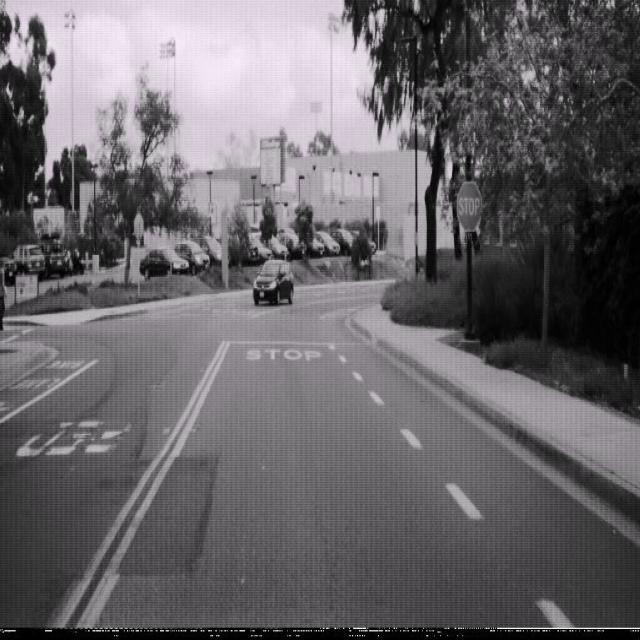stop: (457, 179, 482, 232)
